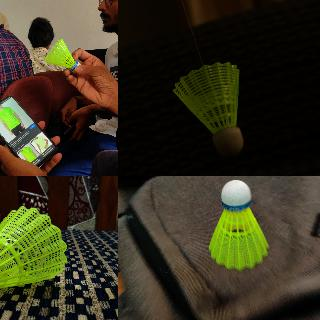shuttlecock: (0, 205, 67, 308), (173, 62, 243, 156), (206, 180, 268, 270), (44, 38, 80, 74)
